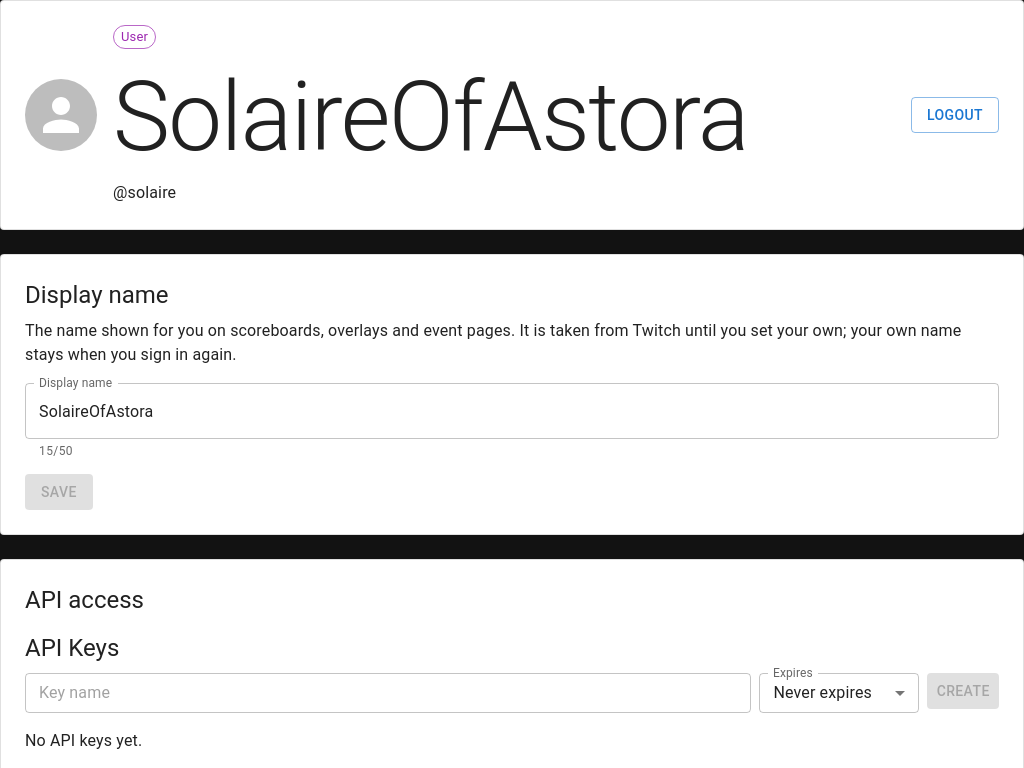
Test case: ProfilePage display name › shows the server validation message on the field
Replace the text in the field labelled "Display name" with "Solaire" at (512, 411), box [25,383,999,439]
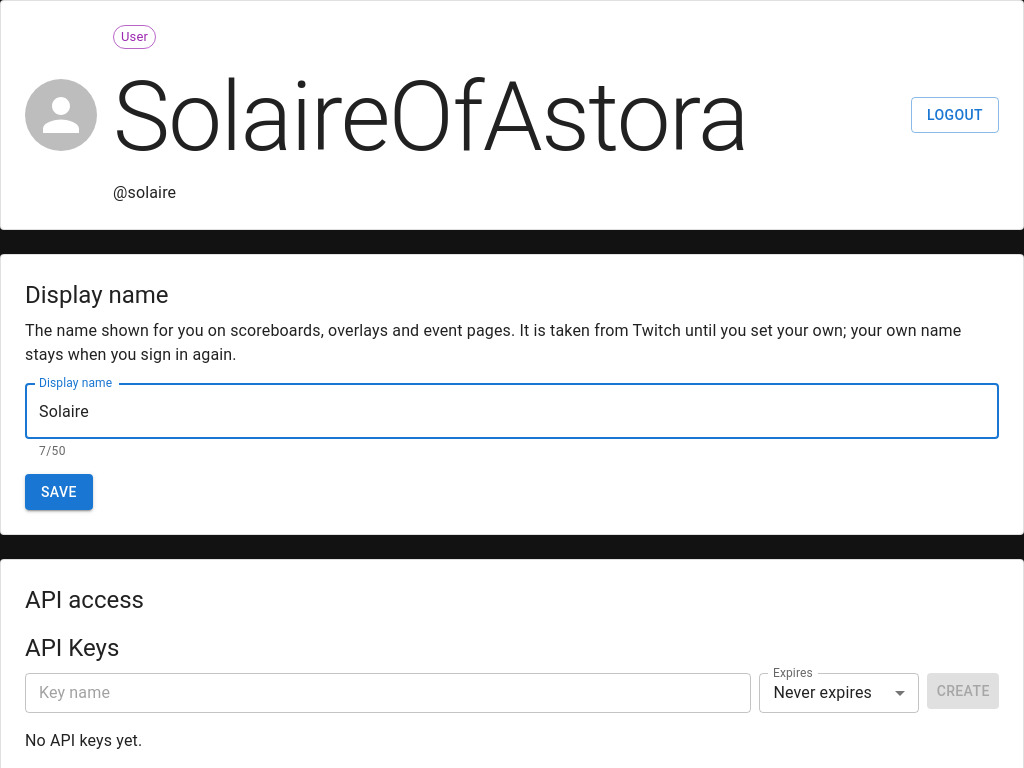
Click the button "Save" at (59, 492), box [25,474,93,510]
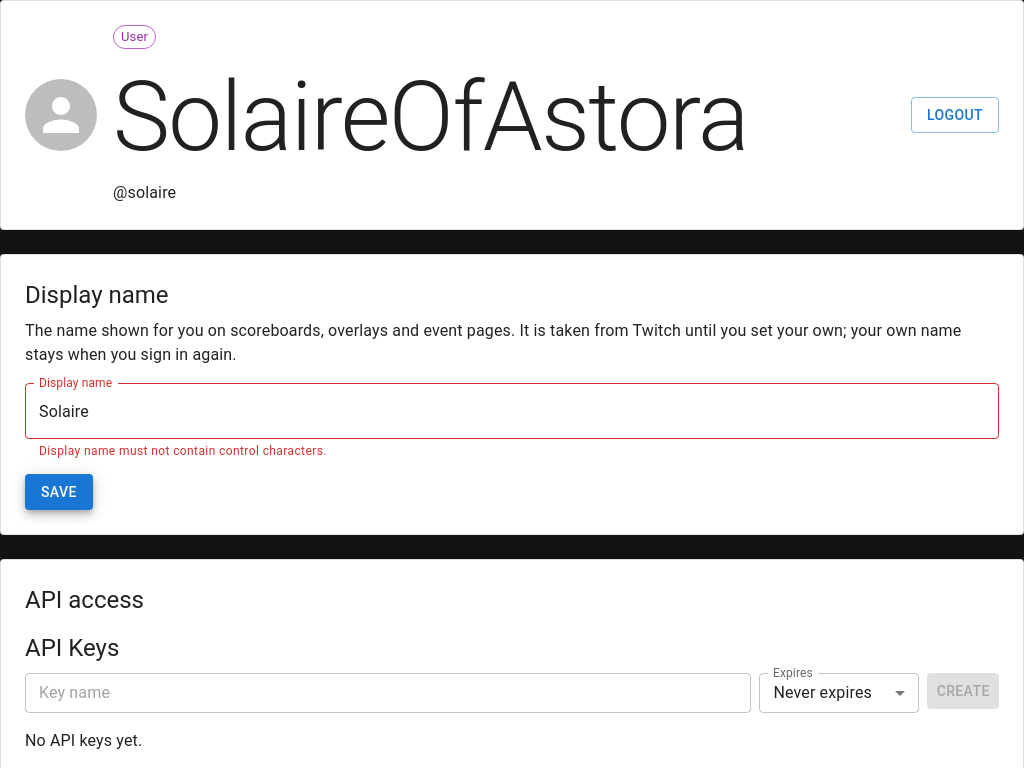
Now the text "Display name must not contain control characters." is shown, box [39,444,327,458]
